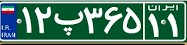character: (53, 7, 85, 37), (82, 3, 103, 37), (103, 3, 123, 38), (123, 4, 142, 37), (34, 4, 53, 35), (19, 5, 33, 37), (147, 12, 161, 38), (166, 12, 180, 38)
